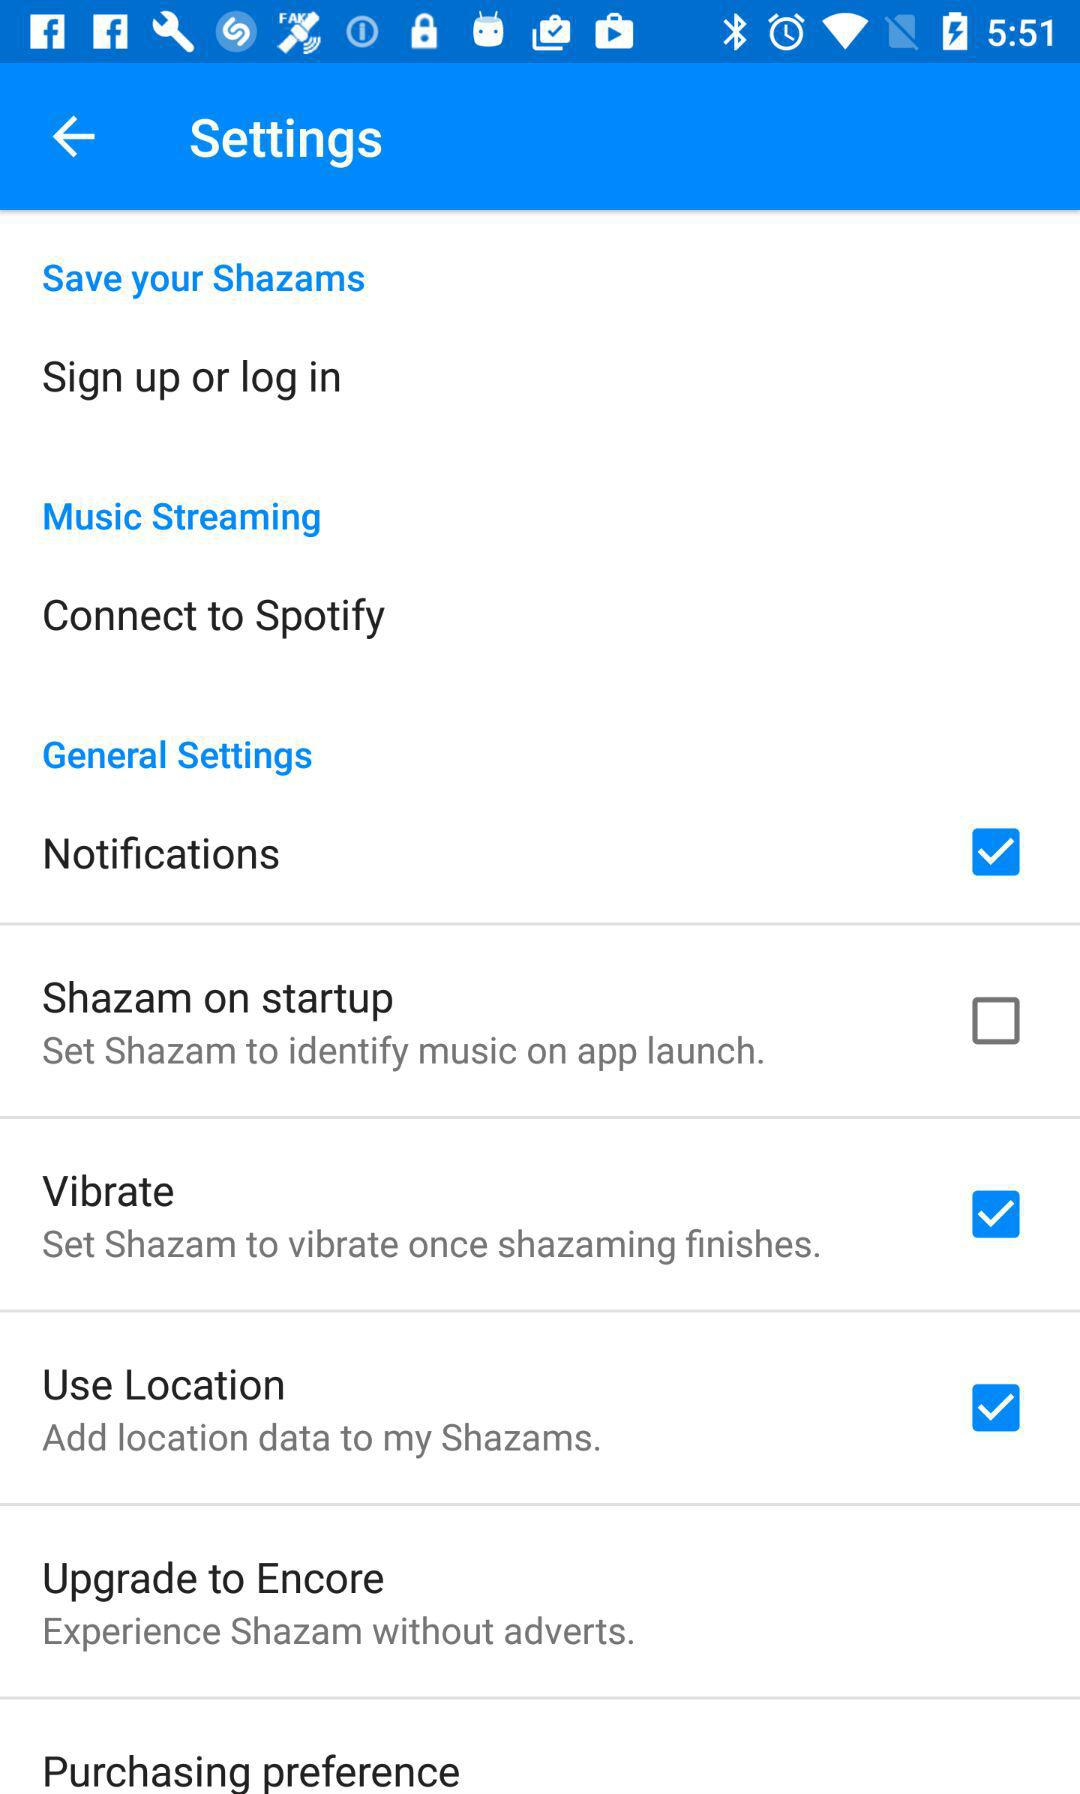CheckedTextView: (971, 1383, 1021, 1433), (971, 1190, 1021, 1240), (971, 996, 1021, 1046), (972, 827, 1021, 876)
Icon: (53, 115, 97, 160)
Text: (42, 1228, 820, 1266), (44, 1035, 764, 1073), (44, 1615, 634, 1654), (42, 1421, 601, 1460), (44, 1753, 461, 1794), (44, 1559, 386, 1604), (44, 597, 386, 639), (44, 982, 395, 1023), (44, 360, 341, 402), (44, 264, 365, 301), (44, 739, 313, 778), (44, 502, 322, 539), (190, 119, 383, 170), (45, 835, 281, 871), (44, 1369, 284, 1402), (42, 1173, 176, 1208)
Toolbar: (4, 67, 1080, 211)
UpperTaskBar: (1, 1, 1080, 64)
